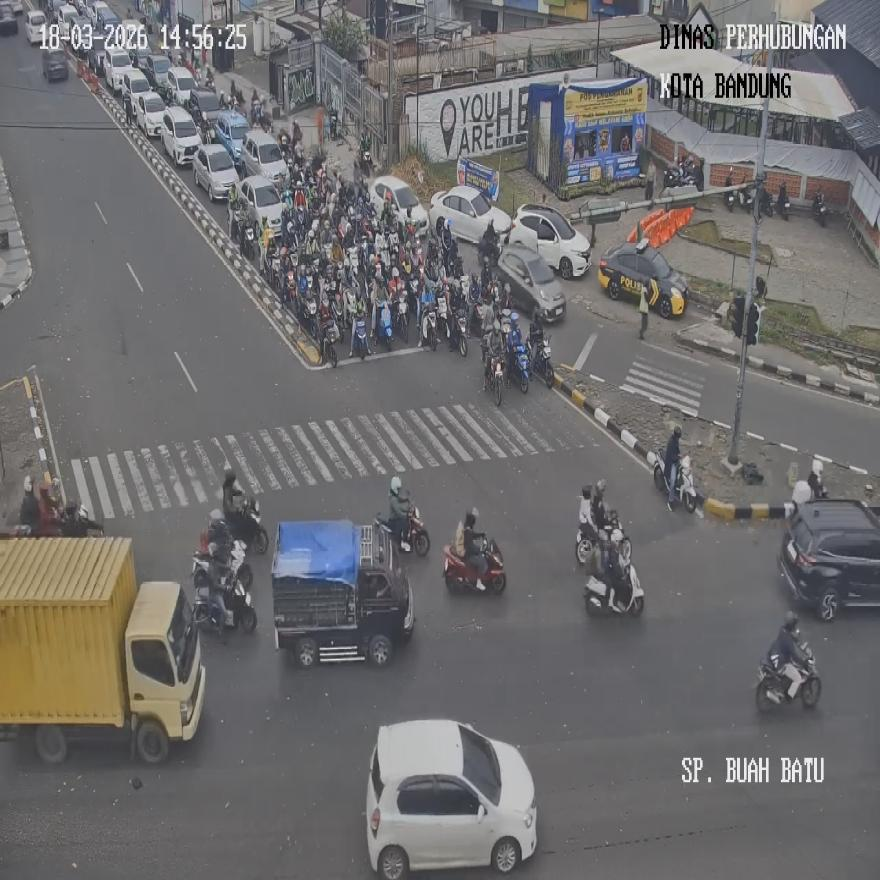Mobil: (365, 718, 536, 878), (270, 520, 415, 668), (777, 499, 880, 622), (597, 237, 689, 318), (507, 203, 593, 280), (496, 242, 564, 324)
Motor: (192, 550, 256, 637), (755, 640, 821, 712), (584, 551, 644, 617), (442, 535, 505, 594), (574, 512, 628, 573), (375, 501, 429, 556), (653, 452, 697, 512), (228, 492, 268, 554), (531, 334, 554, 388), (507, 336, 529, 392), (744, 180, 772, 217), (485, 352, 504, 406), (374, 300, 393, 350), (448, 306, 467, 355), (321, 316, 339, 366), (394, 288, 410, 344), (300, 293, 318, 341), (350, 318, 370, 360), (420, 306, 438, 350), (436, 287, 450, 339), (811, 190, 827, 228), (723, 169, 737, 212), (776, 183, 790, 220), (663, 165, 681, 189), (362, 147, 373, 182)
